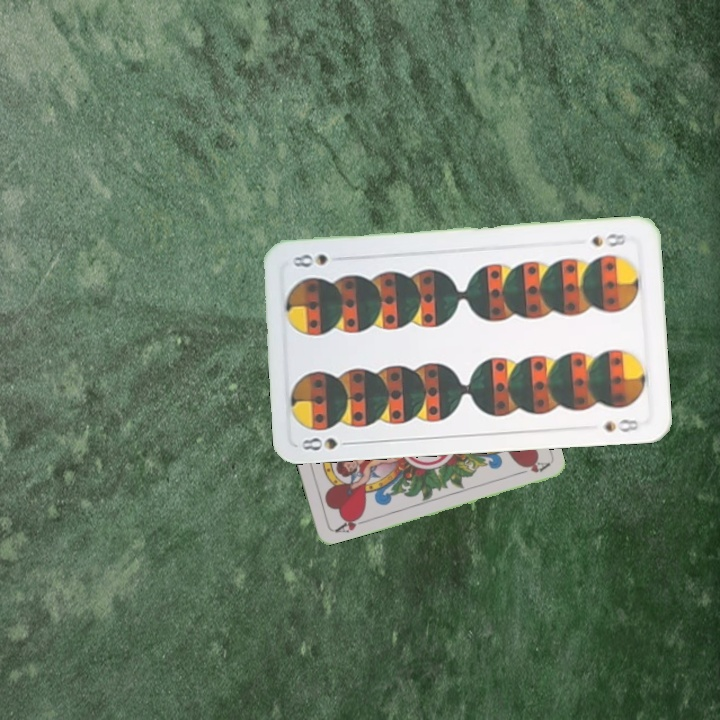HA: (331, 511, 369, 535)
S8: (297, 434, 357, 453), (588, 229, 629, 250)
